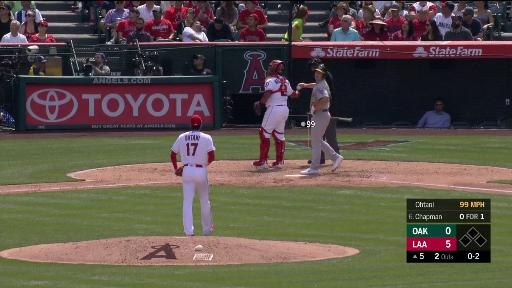pitcher: (170, 115, 217, 235)
